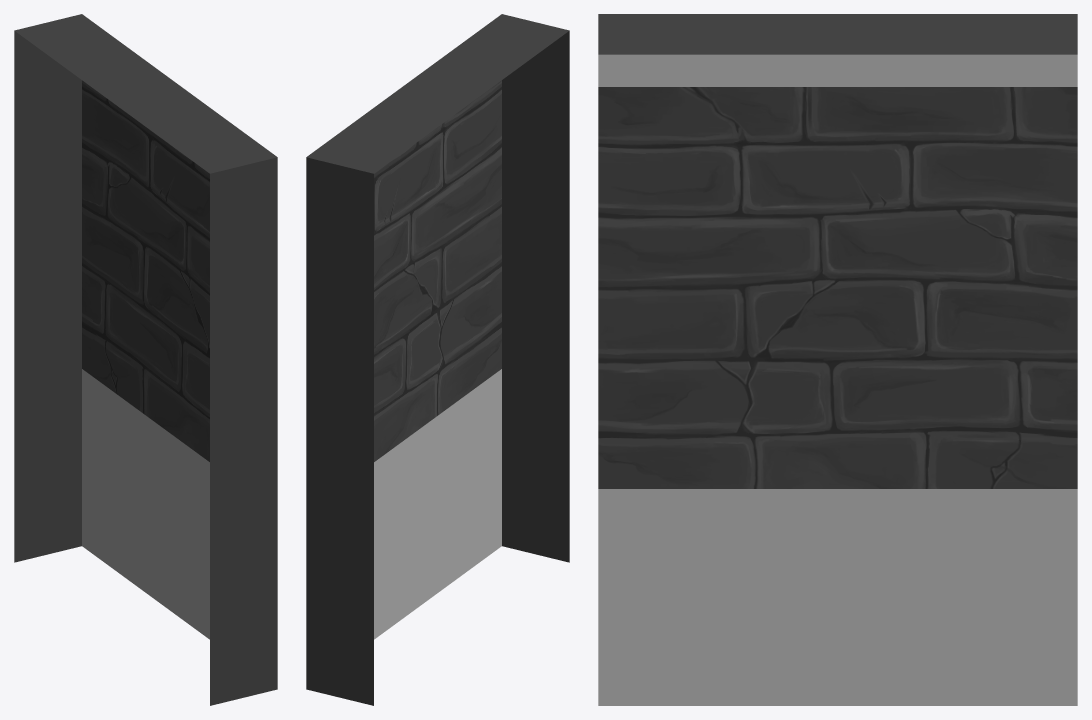
Rendered from SM_ModularKit_WallHalf.fbx.
The picture shows the model from 3 angles, left to right: view 1: azimuth 30°, elevation 25°; view 2: azimuth 150°, elevation 25°; view 3: azimuth 270°, elevation 25°; orthographic projection. The views are drawn at different scales.
Visible parts, largest first — view 1: WallHalf; view 2: WallHalf; view 3: WallHalf.
Part boxes in pixels (bbox=[...]): WallHalf: bbox=[14, 14, 277, 705]; WallHalf: bbox=[306, 14, 569, 705]; WallHalf: bbox=[598, 14, 1077, 705].
Bounding box in the file's own units: 40 × 300 × 200.
